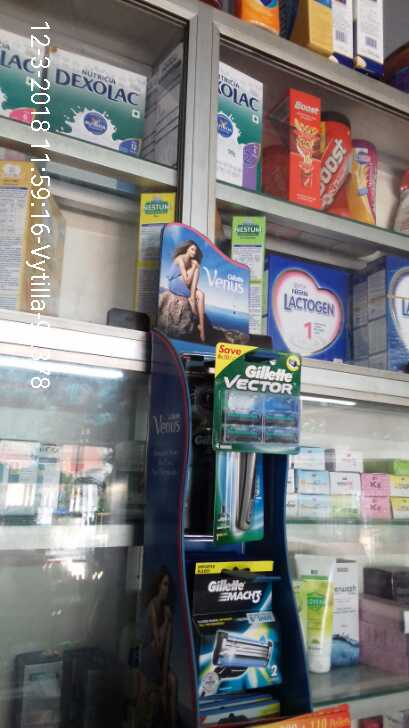gillette: (215, 346, 307, 453)
